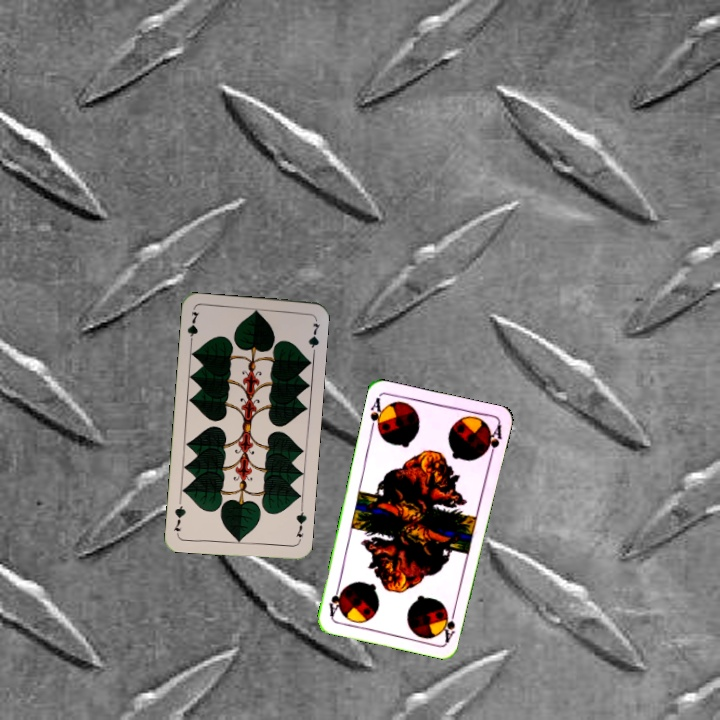G7: (183, 307, 202, 348), (292, 504, 309, 540)
SA: (366, 393, 388, 435), (441, 604, 458, 644)
